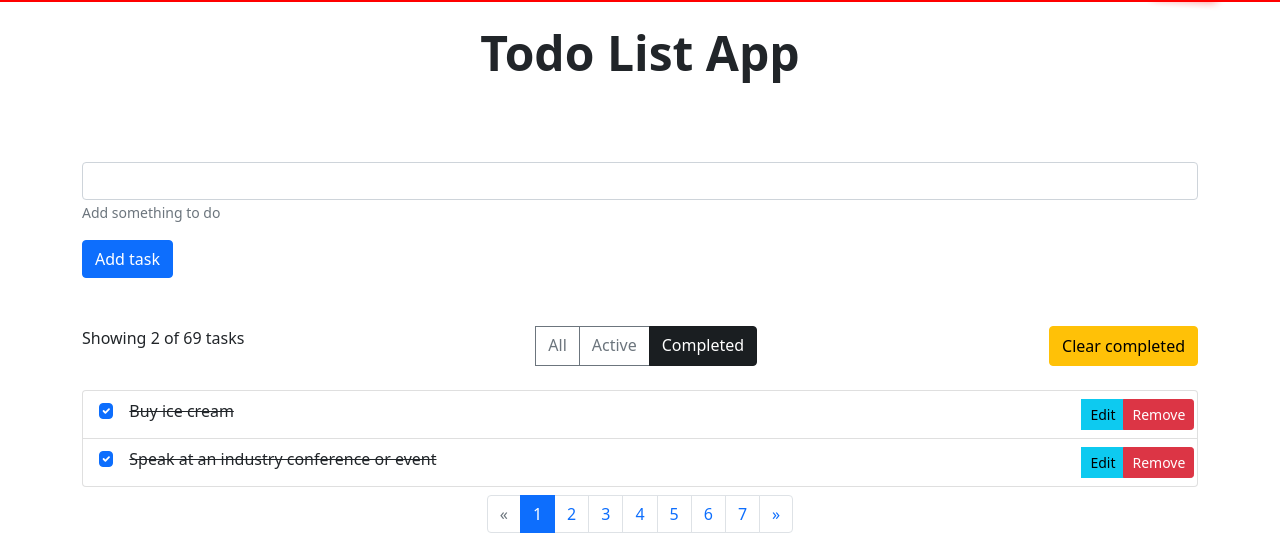
Test case: <App /> › should clear completed
The image size is (1280, 550).
Click the button "Clear completed".
click(1124, 346)  # box [1049,326,1198,366]
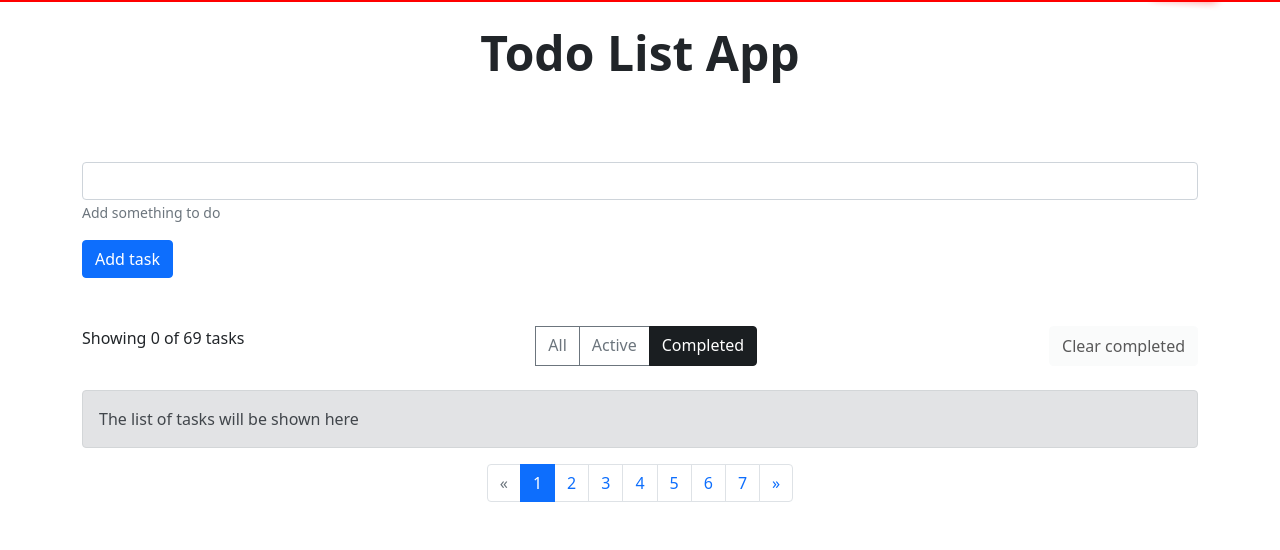
Expected: the list with test id "list-todo" is gone
